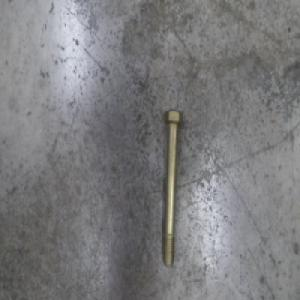Bolt: (162, 108, 183, 270)
